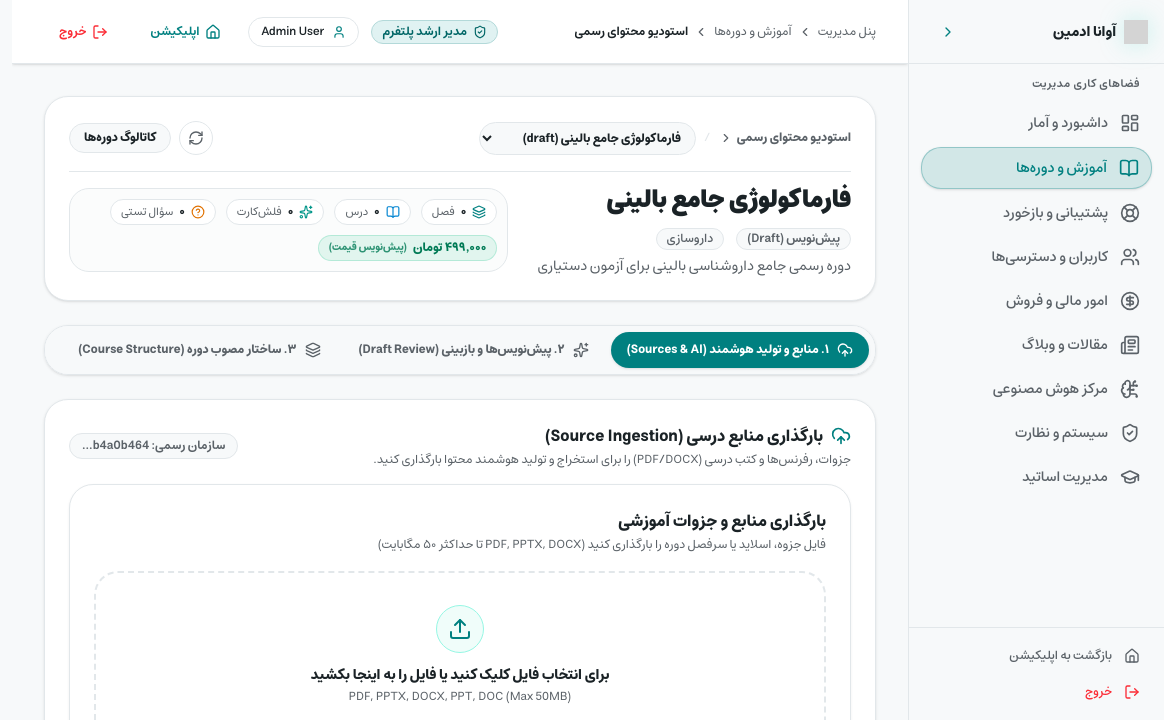
Test: Unified Official Content Studio Workspace — Comprehensive Test Matrix › Scenario 8: Course structure tree reflects real backend hierarchy with module/lesson/quiz counts
Check: the text "۳. ساختار مصوب دوره (Course Structure)" is shown, box [78,342,296,358]
Click the button "۳. ساختار مصوب دوره (Course Structure)" at (199, 350), box [62,332,336,368]
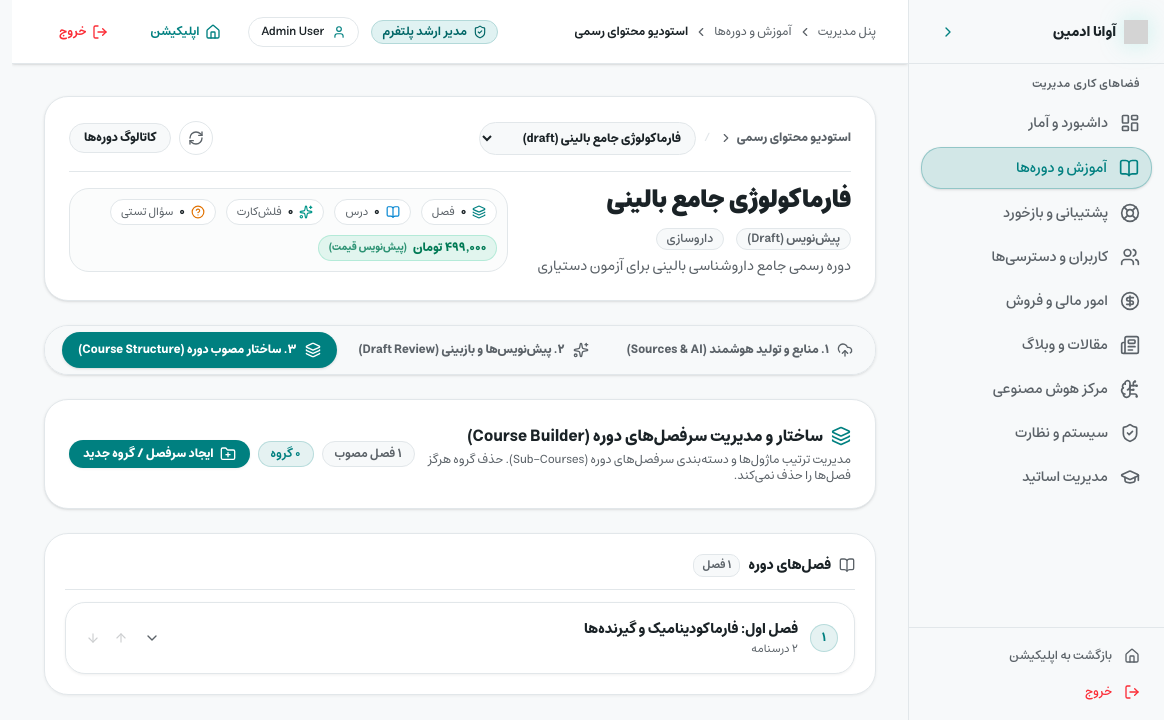
Check: the heading "فصل اول: فارماکودینامیک و گیرنده‌ها" is shown
Click the heading "فصل اول: فارماکودینامیک و گیرنده‌ها" at (691, 628), box [584,616,798,640]
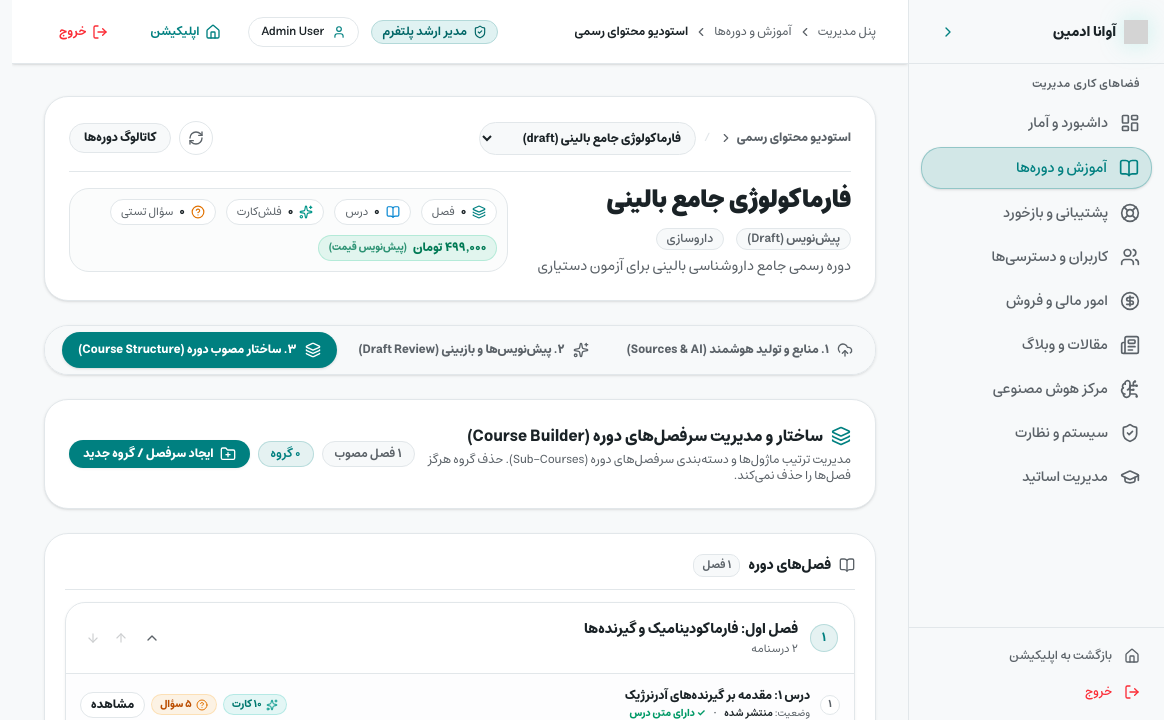
Check: the text "درس ۱: مقدمه بر گیرنده‌های آدرنرژیک" is shown, box [625,688,810,704]
Check: the text "۱۰ کارت" is shown, box [232,697,262,712]
Check: the text "۵ سؤال" is shown, box [160,697,192,712]
